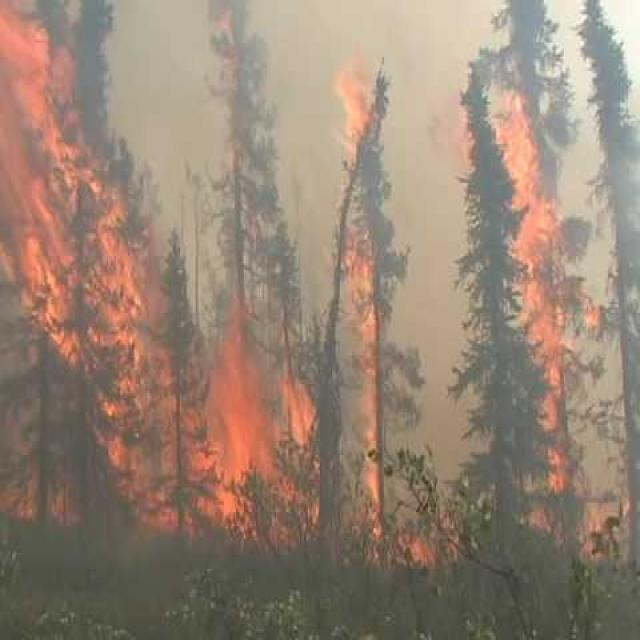Fire: (17, 26, 408, 556), (478, 93, 600, 544)
